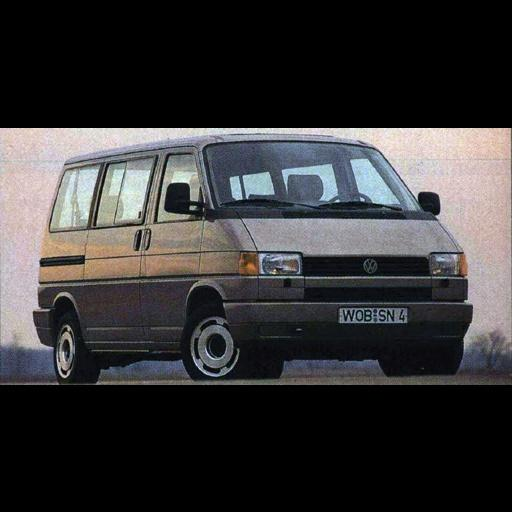van: (34, 134, 472, 381)
